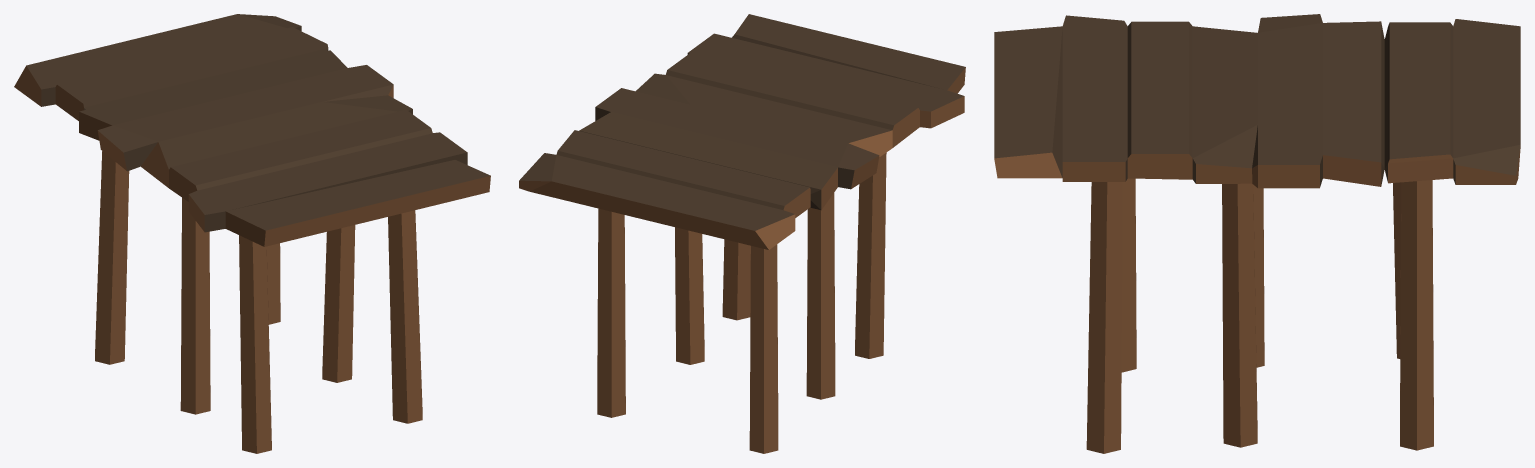
File: pirates-pirate-platform-small.glb
3 renders of one model, left to right at view 1: azimuth 30°, elevation 25°; view 2: azimuth 150°, elevation 25°; view 3: azimuth 270°, elevation 25°, orthographic. The views are drawn at different scales.
Parts seen in each view (by area): view 1: pirate-platform-small; view 2: pirate-platform-small; view 3: pirate-platform-small.
Boxes of the visible parts, <box> form: pirate-platform-small: <box>14,14,490,453</box>; pirate-platform-small: <box>519,14,965,453</box>; pirate-platform-small: <box>994,14,1520,453</box>.
Size of the model in its own units: 2.83 by 2.69 by 4.13.
